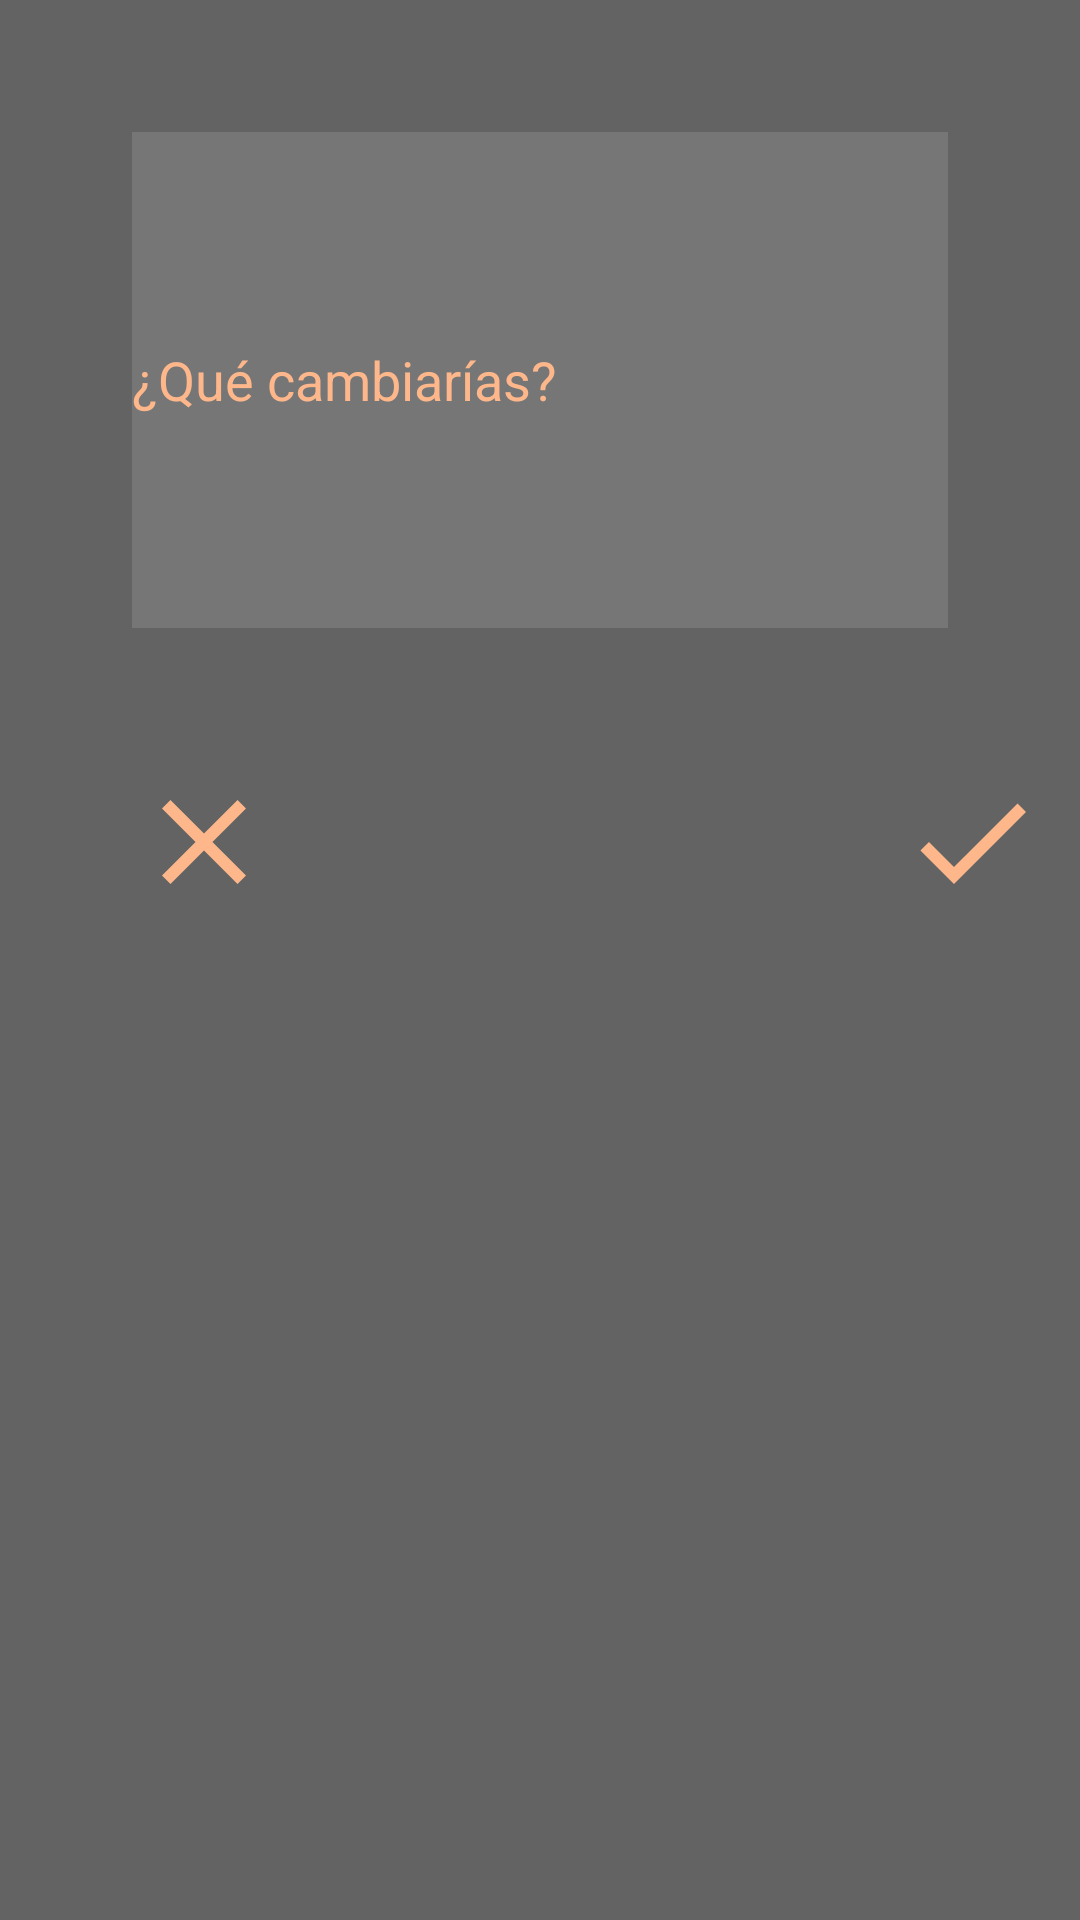

Screen size 1080 x 1920. Icon name, then its center in pixels as (x,y):
check: (973,843)
clear: (204,842)
